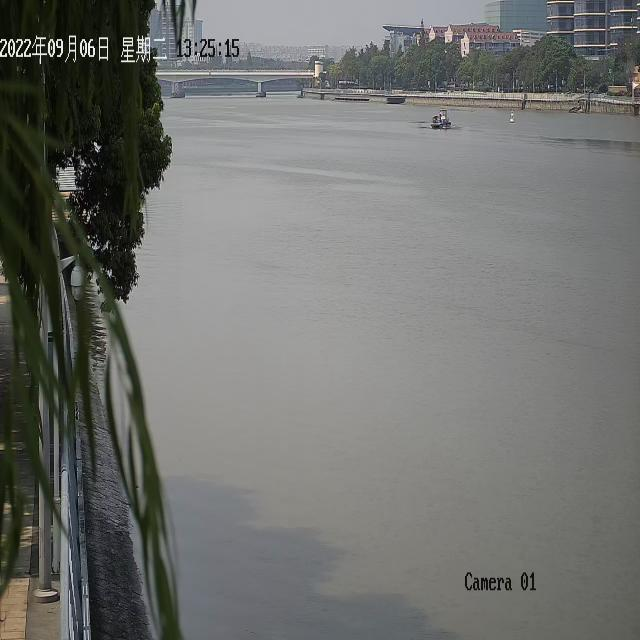ship: (430, 108, 450, 128)
